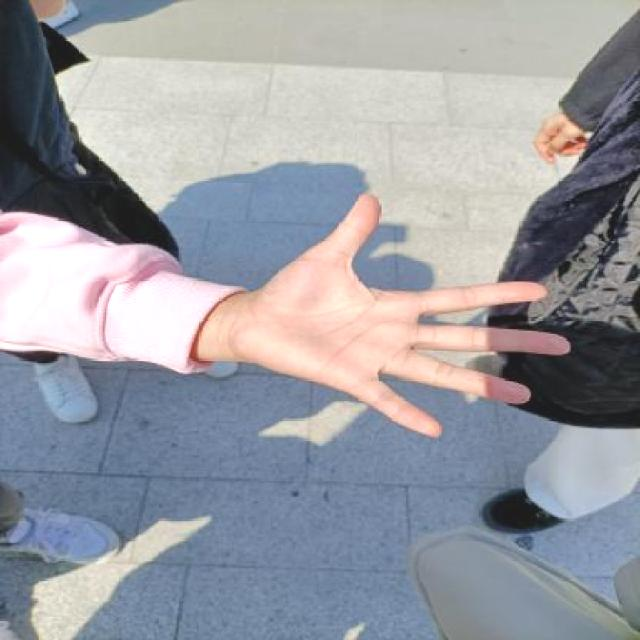no_glove: (214, 182, 586, 444)
